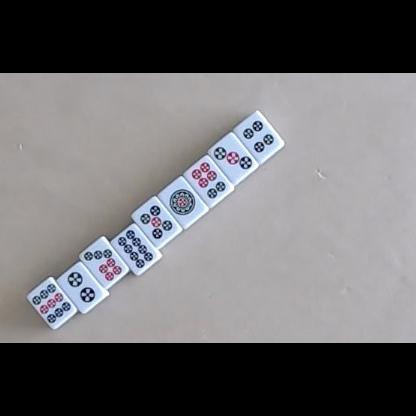1p: (169, 188, 196, 216)
2p: (67, 271, 96, 303)
3p: (213, 146, 253, 172)
4p: (243, 119, 275, 153)
5p: (139, 205, 173, 240)
6p: (191, 161, 226, 199)
7p: (84, 249, 122, 281)
8p: (118, 229, 153, 269)
9p: (32, 283, 71, 324)
